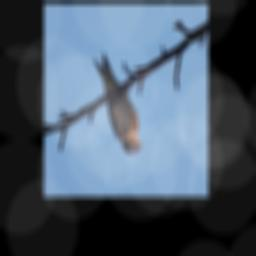Swallow: (93, 53, 144, 154)
